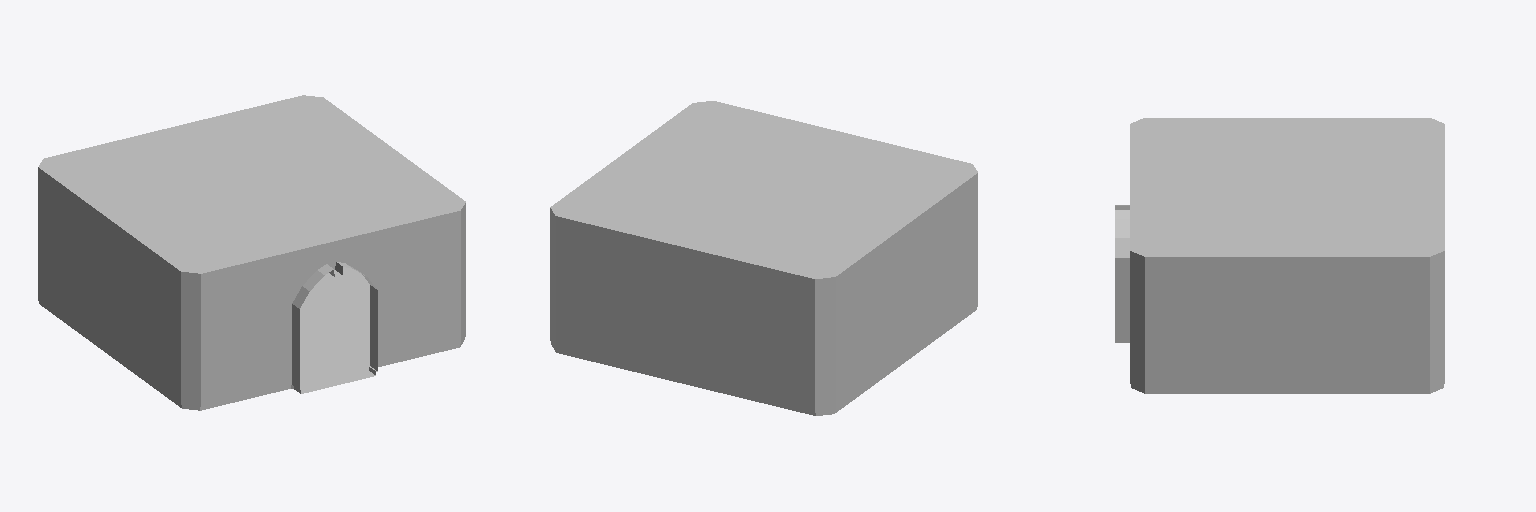
File: RoomLg.obj
The picture shows the model from 3 angles: view 1: azimuth 30°, elevation 25°; view 2: azimuth 150°, elevation 25°; view 3: azimuth 270°, elevation 25°; orthographic projection.
Parts seen in each view (by area): view 1: RoomLg; view 2: RoomLg; view 3: RoomLg.
Boxes of the visible parts, x1,y1,x2,y2 form: RoomLg: [38, 95, 465, 410]; RoomLg: [550, 101, 977, 415]; RoomLg: [1115, 118, 1444, 393].
Size of the model in its own units: 220 by 101 by 220.